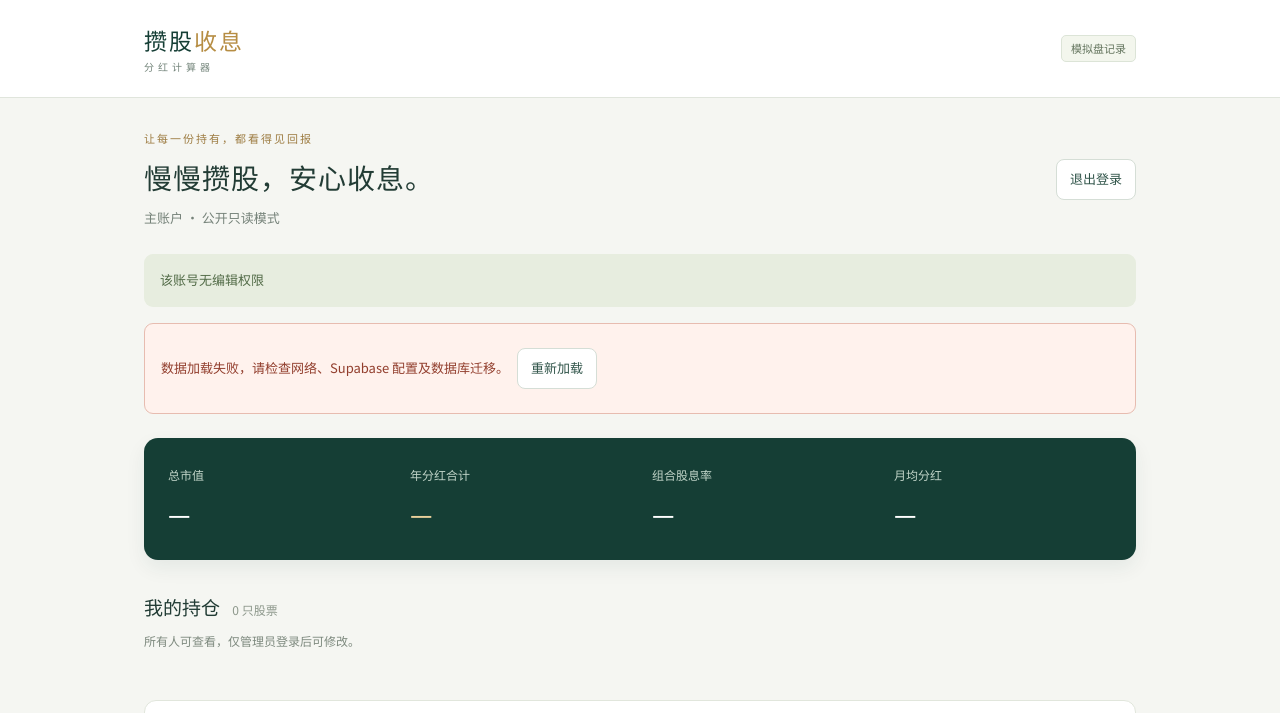
Scenario: 读取失败后成功加载真正的空持仓时月表及合计显示零
Click the button "重新加载". click: (557, 368)
box: [517,348,597,389]
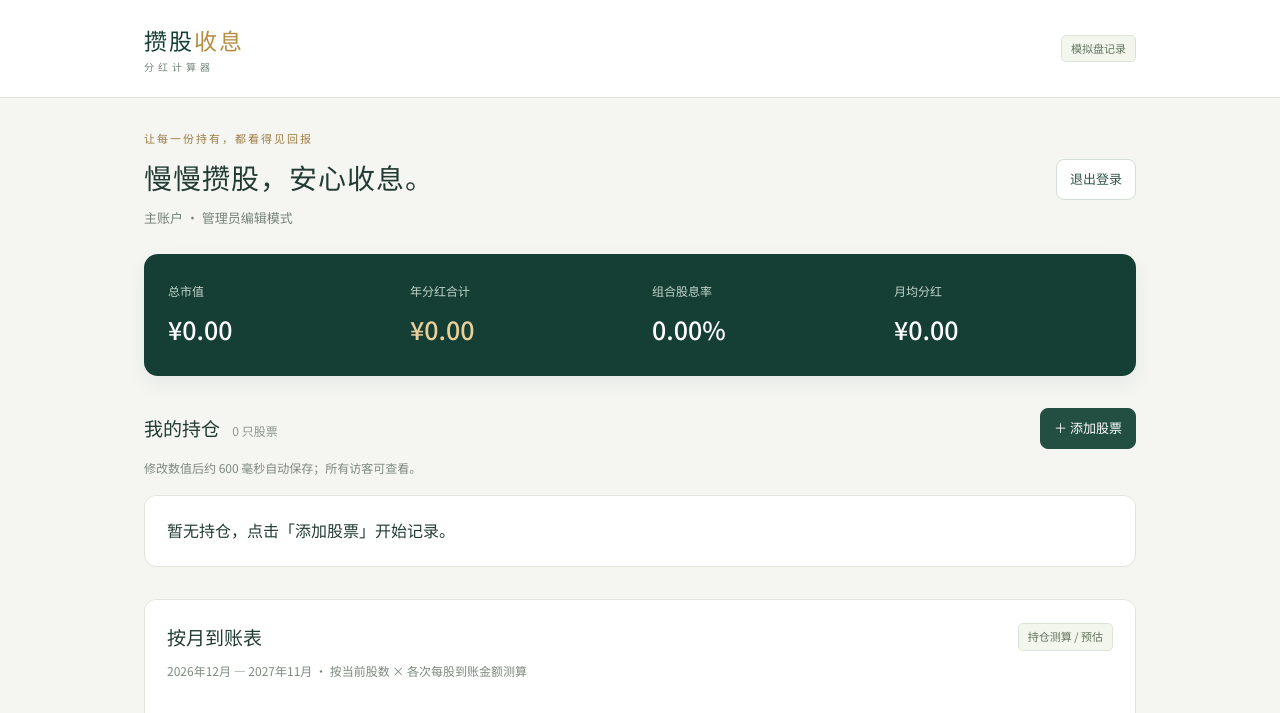
Check: the text "暂无持仓，点击「添加股票」开始记录。" is shown, box [144,495,1136,567]
